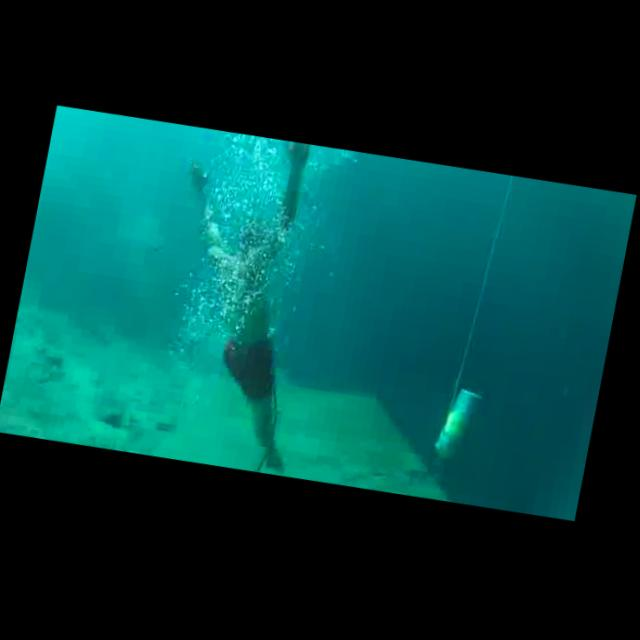human: (126, 123, 352, 481)
